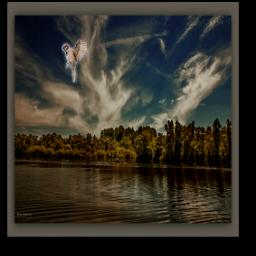Sparrow: (62, 29, 87, 83)
